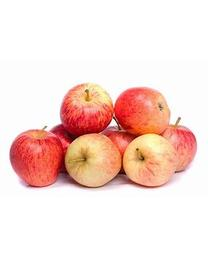apple: (64, 133, 122, 187), (10, 130, 62, 188), (115, 86, 171, 138), (59, 83, 114, 135), (121, 134, 176, 186), (162, 118, 196, 171)
